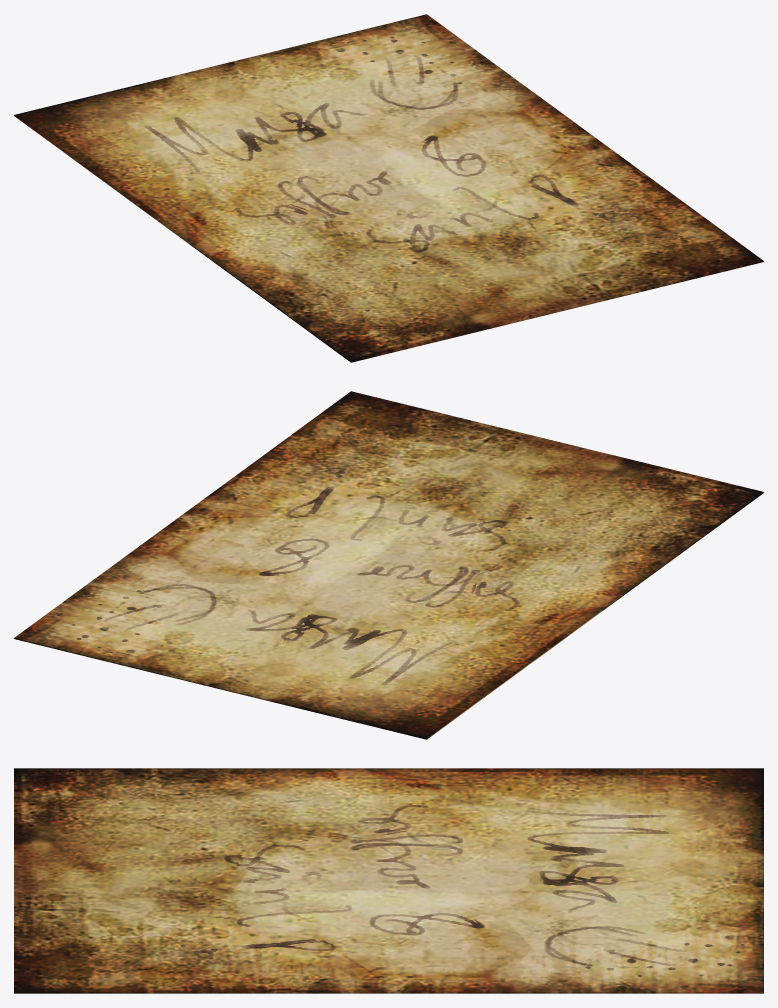
The model's file is Paper_Puzzle.fbx.
The picture shows the model from 3 angles, top to bottom: view 1: azimuth 30°, elevation 25°; view 2: azimuth 150°, elevation 25°; view 3: azimuth 270°, elevation 25°; orthographic projection. The views are drawn at different scales.
Visible parts, largest first — view 1: Paper_4, Paper_3, Paper_5, Paper_1, Paper_2; view 2: Paper_4, Paper_3, Paper_1, Paper_5, Paper_2; view 3: Paper_4, Paper_3, Paper_5, Paper_1, Paper_2.
Part boxes in pixels (box(x1,y1,x2,y2)): Paper_4: box(413, 98, 763, 328); Paper_3: box(268, 113, 567, 247); Paper_5: box(191, 195, 500, 362); Paper_1: box(14, 62, 294, 245); Paper_2: box(229, 14, 540, 145); Paper_4: box(129, 391, 630, 553); Paper_3: box(171, 490, 530, 630); Paper_1: box(211, 605, 604, 739); Paper_5: box(464, 458, 763, 622); Paper_2: box(14, 553, 310, 686); Paper_4: box(14, 834, 508, 993); Paper_3: box(195, 827, 580, 975); Paper_5: box(14, 768, 442, 870); Paper_1: box(369, 768, 763, 885); Paper_2: box(470, 873, 763, 993).
Bounding box in the file's own units: 21 × 0.0534 × 29.7.
1 material, 1 textured.
